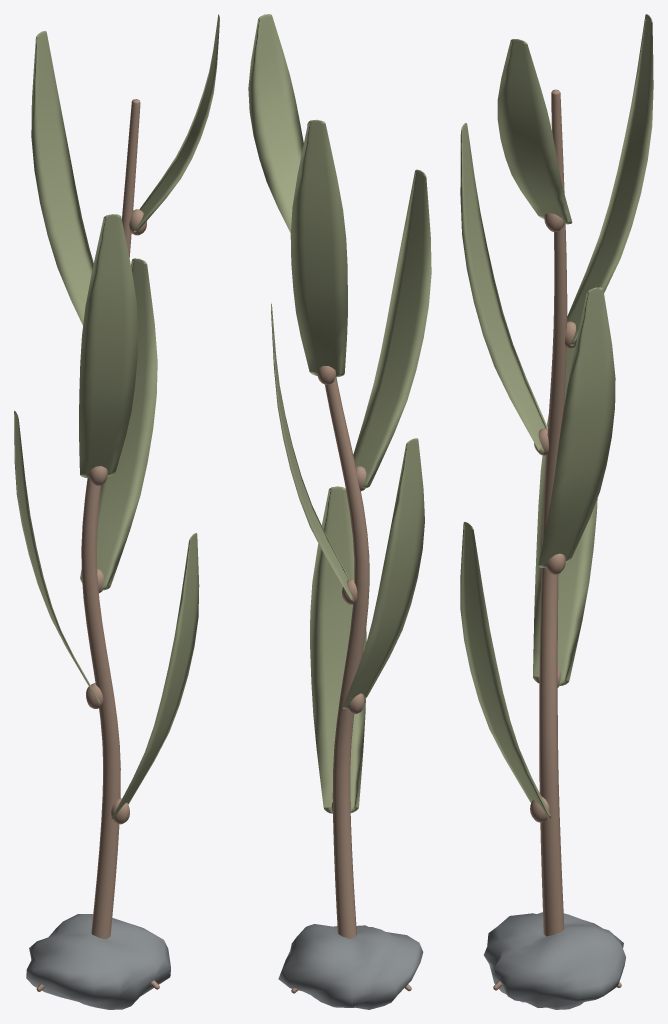
The model's file is kelp_strand.glb.
The picture shows the model from 3 angles, left to right: view 1: azimuth 30°, elevation 25°; view 2: azimuth 150°, elevation 25°; view 3: azimuth 270°, elevation 25°; orthographic projection. The views are drawn at different scales.
Parts seen in each view (by area): view 1: kelp-strand; view 2: kelp-strand; view 3: kelp-strand.
Boxes of the visible parts, x1,y1,x2,y2 form: kelp-strand: [14, 14, 219, 1009]; kelp-strand: [248, 14, 431, 1009]; kelp-strand: [460, 14, 653, 1009].
Size of the model in its own units: 0.9268 by 4.7 by 0.8126.
